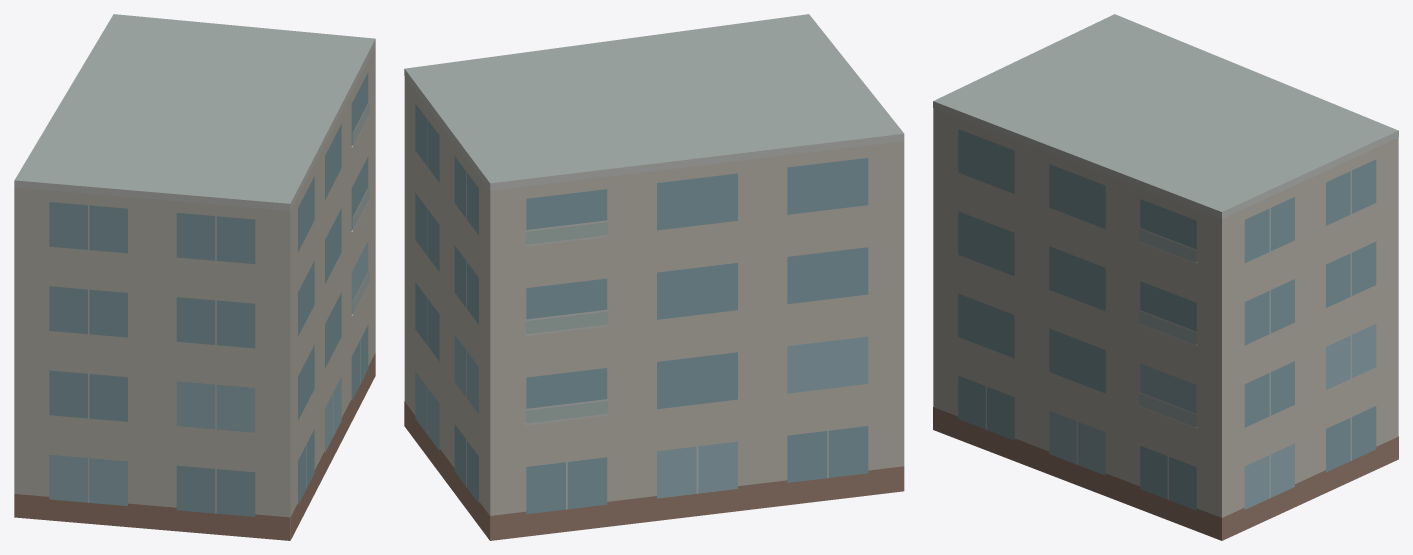
The model's file is survey-upis-32773689.glb.
The picture shows the model from 3 angles, left to right: view 1: azimuth 30°, elevation 25°; view 2: azimuth 150°, elevation 25°; view 3: azimuth 270°, elevation 25°; orthographic projection. The views are drawn at different scales.
Visible parts, largest first — view 1: survey-upis-32773689.tmp; view 2: survey-upis-32773689.tmp; view 3: survey-upis-32773689.tmp.
Part boxes in pixels (<box>): survey-upis-32773689.tmp: <box>14,14,375,540</box>; survey-upis-32773689.tmp: <box>404,14,904,540</box>; survey-upis-32773689.tmp: <box>933,14,1398,540</box>.
Bounding box in the file's own units: 15.35 × 11.88 × 15.25.
